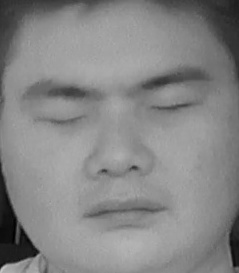blink: (147, 90, 200, 125), (35, 104, 85, 135)
mouth: (84, 184, 172, 233)
